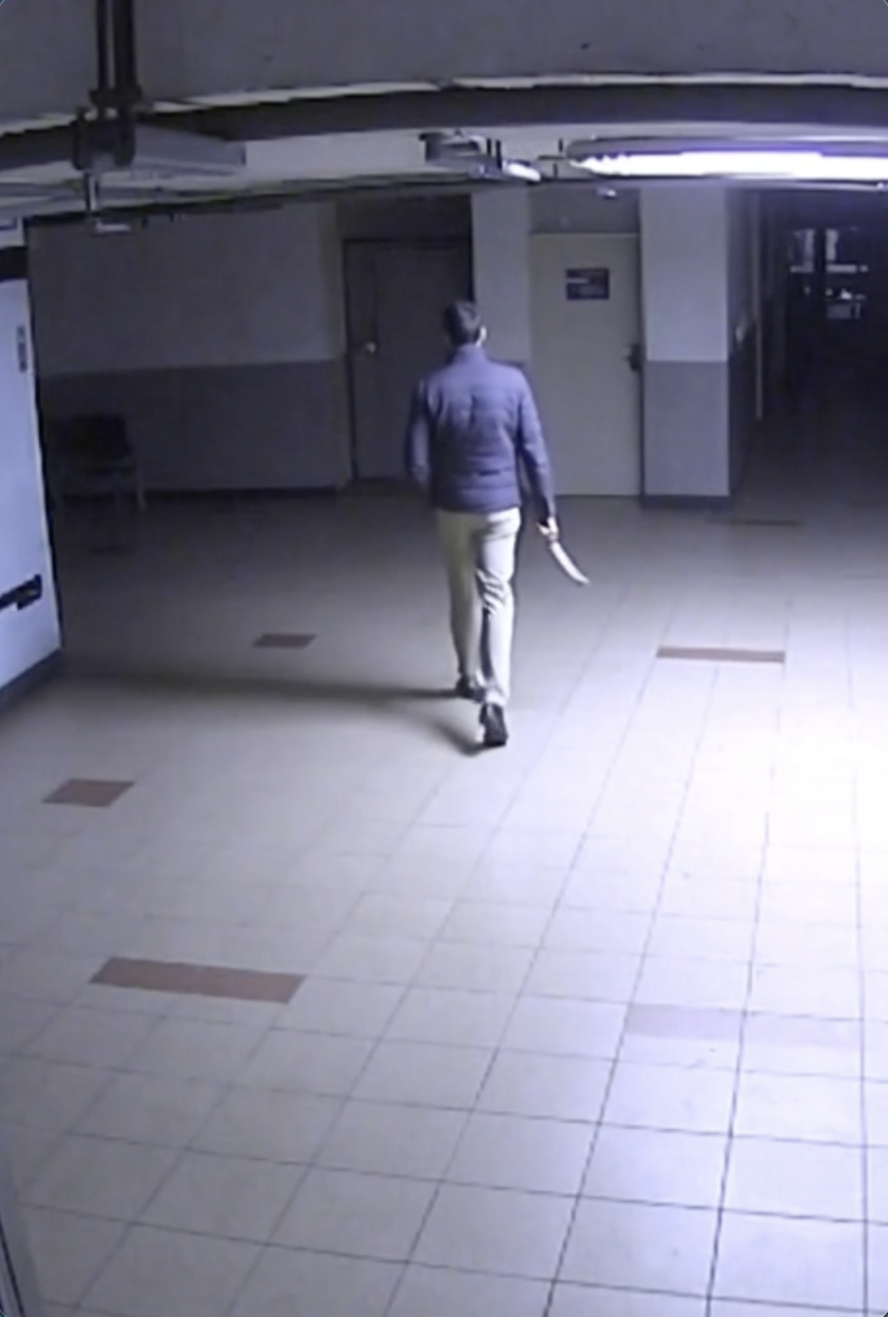Heavy Gun: (404, 295, 566, 757)
Knife: (537, 522, 596, 591)
